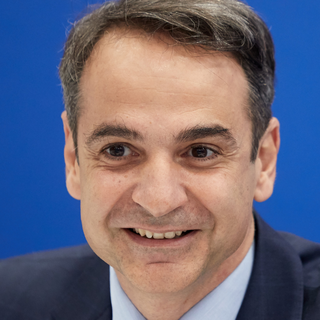eye: (173, 140, 224, 165), (95, 139, 141, 161)
